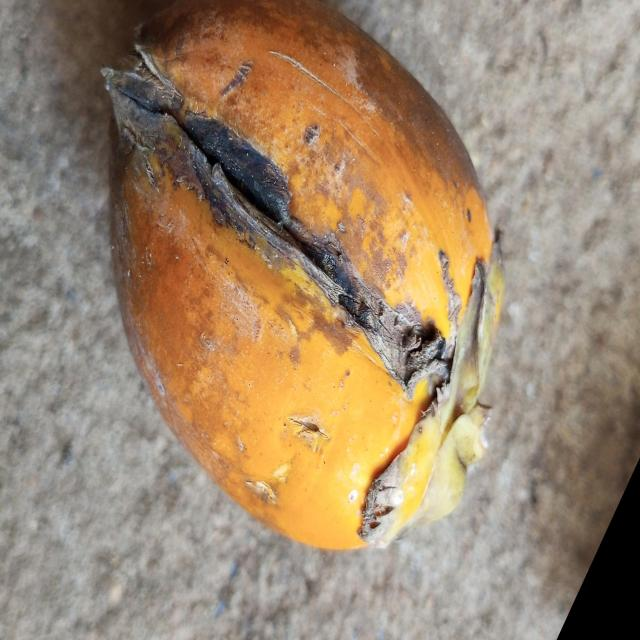damaged: (26, 0, 507, 555)
